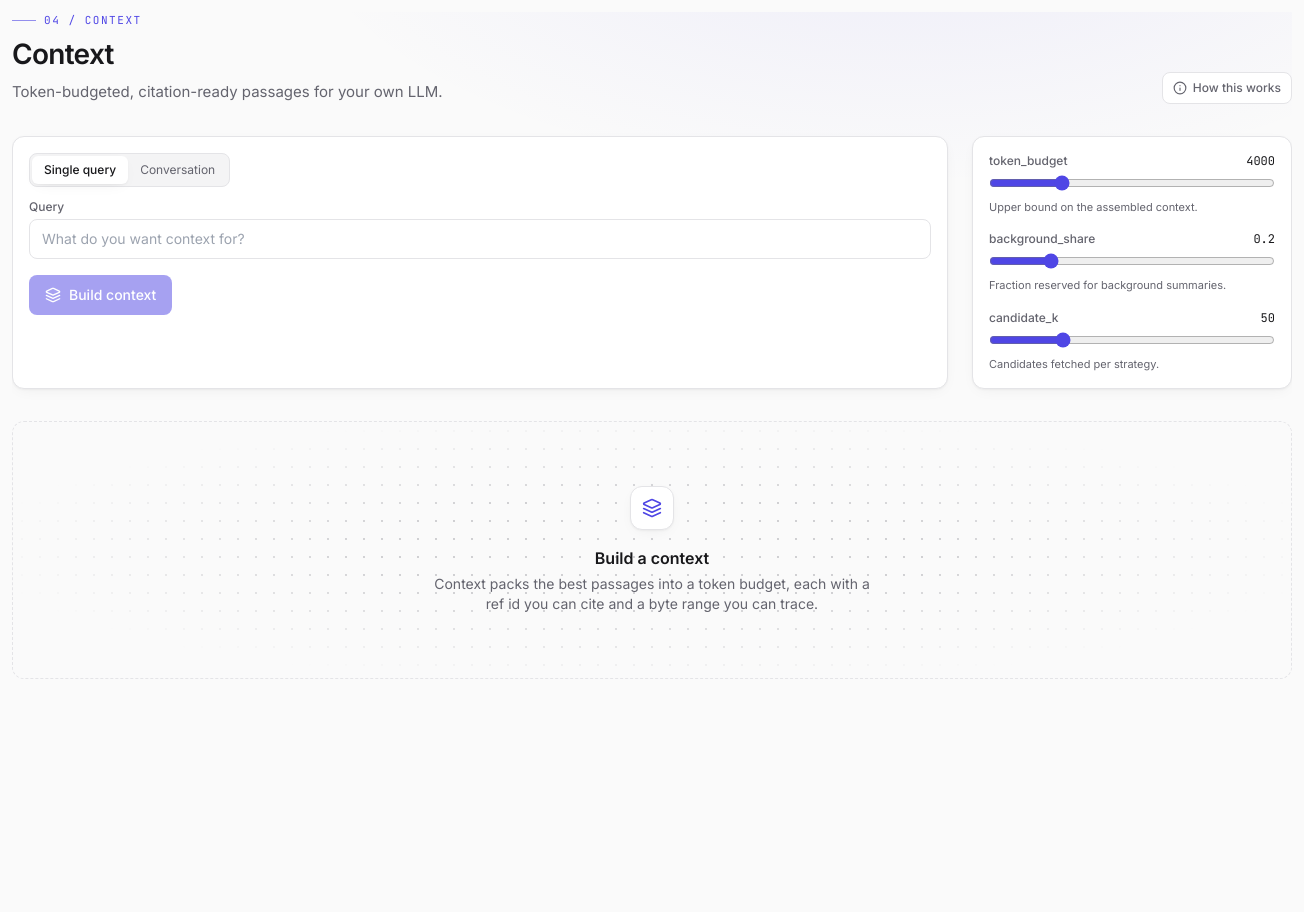
it: ContextPage › distinguishes_503_causes
Type "hello" into the field labelled "Query".
click(480, 239); type("hello")  # box [29, 219, 931, 259]
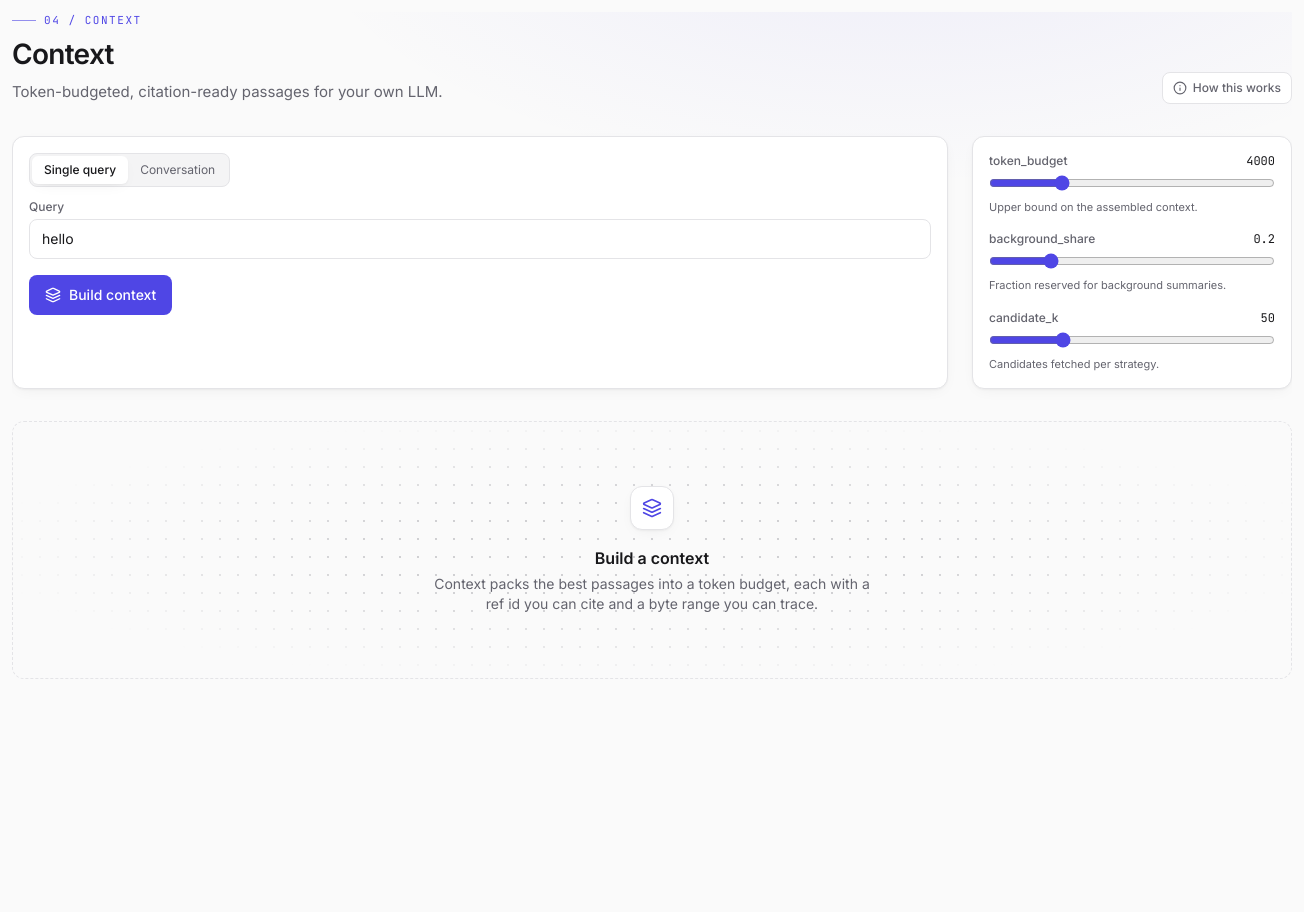
Click the button "Build context".
click(101, 295)  # box [29, 275, 172, 315]
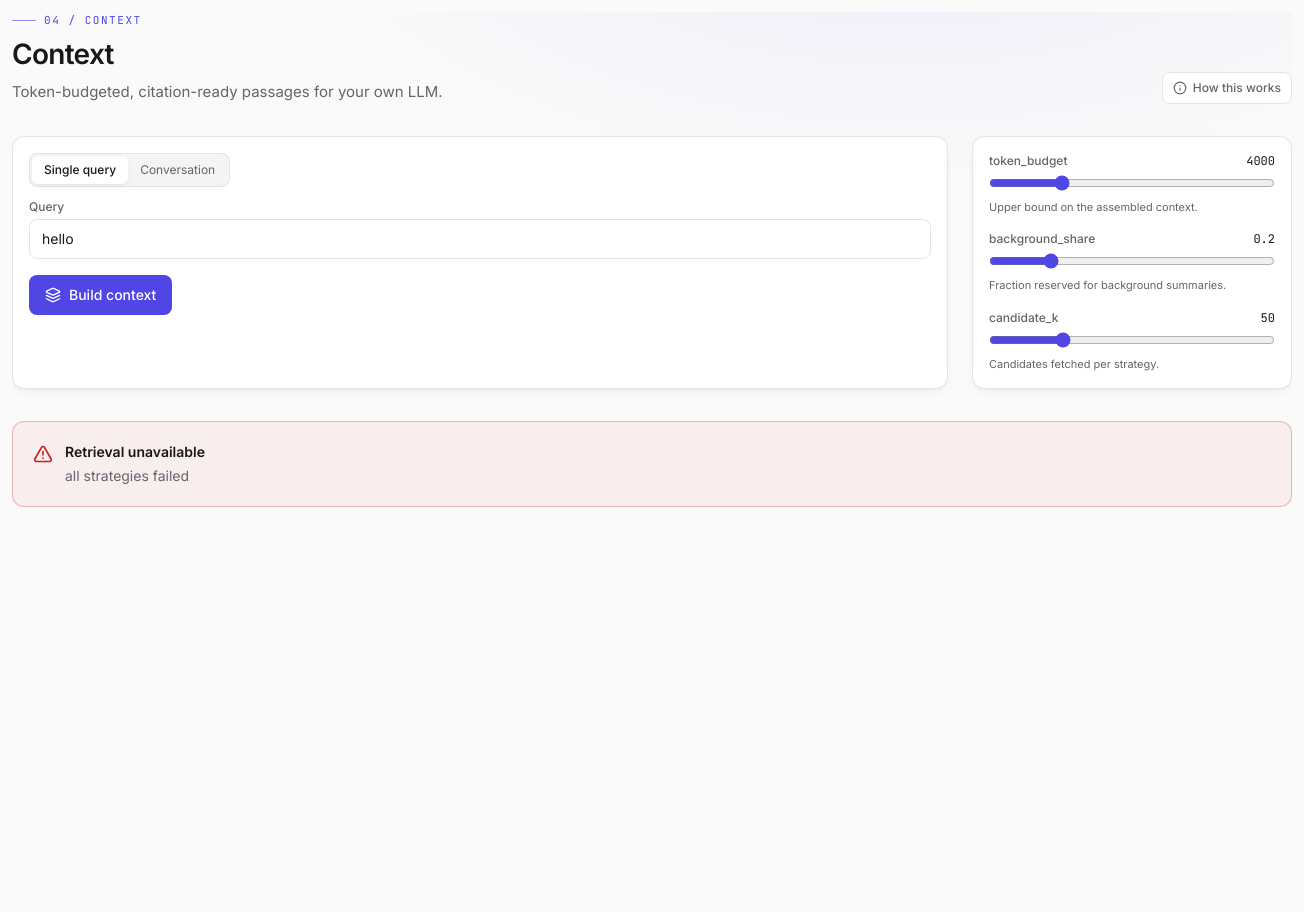
Expected: the heading "Retrieval unavailable" is shown, [65, 443, 205, 460]
